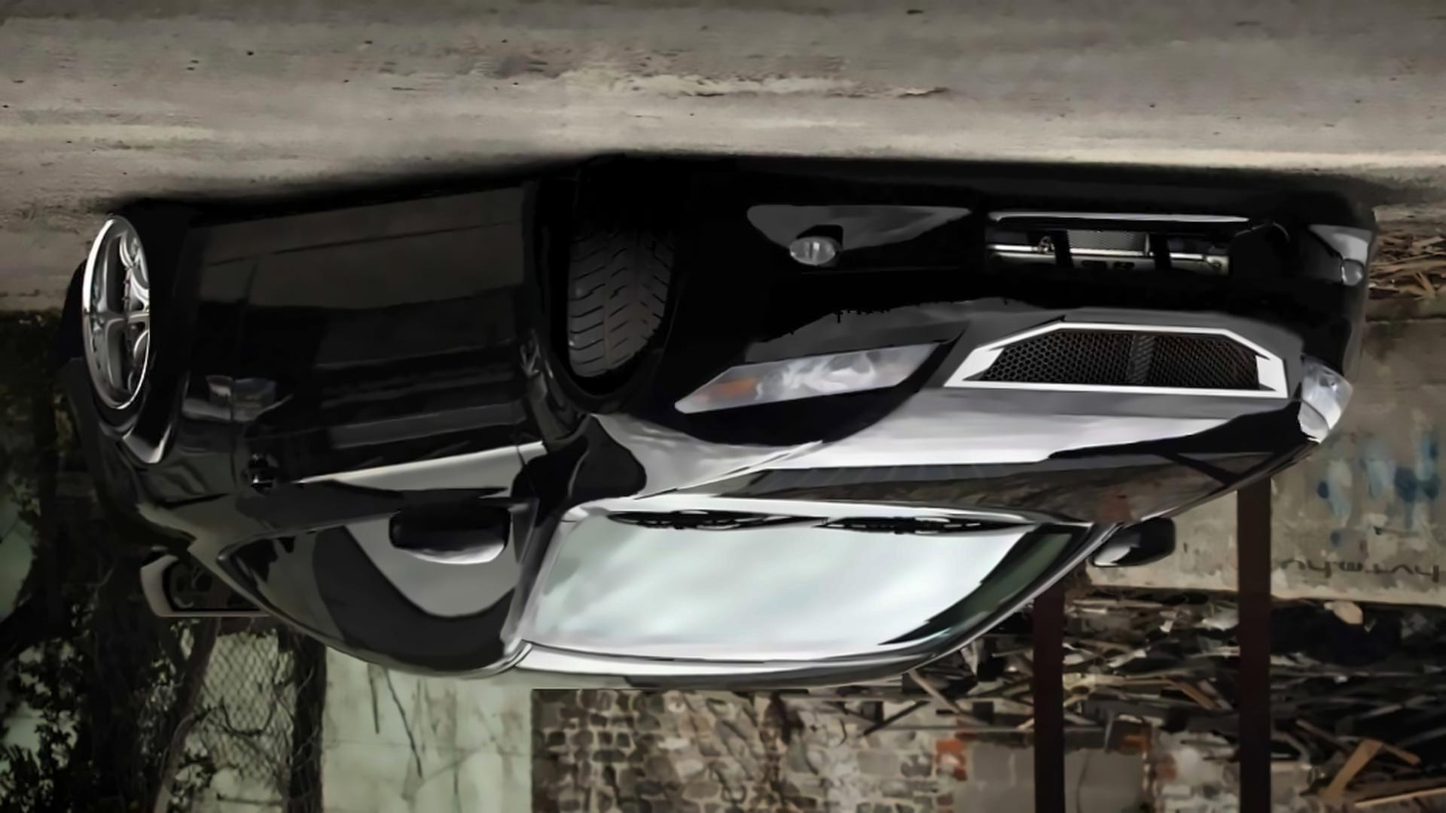Car hood: (659, 373, 1320, 550)
Fender - -F-L-: (503, 269, 729, 525)
Fender - -R-L-: (89, 350, 212, 599)
Front bumper: (661, 158, 1389, 349)
Headlight - -L-: (673, 339, 940, 422)
Headlight - -R-: (1293, 355, 1357, 446)
Passenger-s door - -F-L-: (211, 162, 626, 677)
Side bumper - -L-: (173, 160, 551, 308)
Side mirror - -L-: (388, 483, 535, 573)
